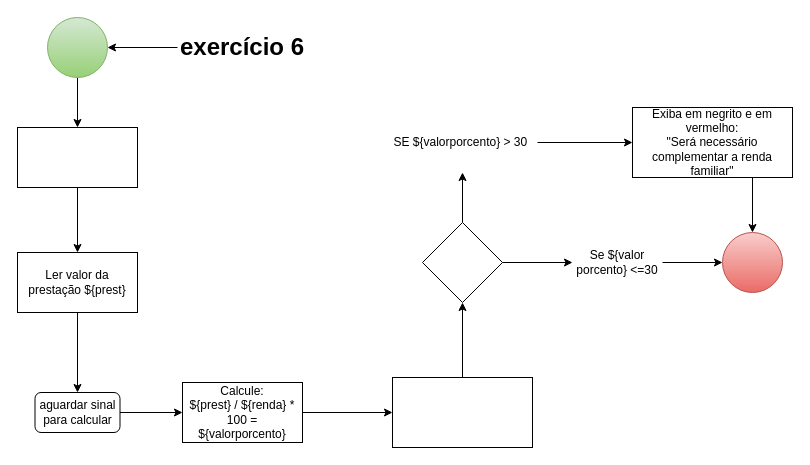
Some shapes in this 810 by 465 pixel diagram are drawn without their labels. Each missing label, with the box of its shape:
Exiba: "A prestação corresponde a ${valorporcento}% da renda familiar: (392, 376, 532, 448)
Ler valor da renda familiar ${renda}: (16, 126, 138, 188)
